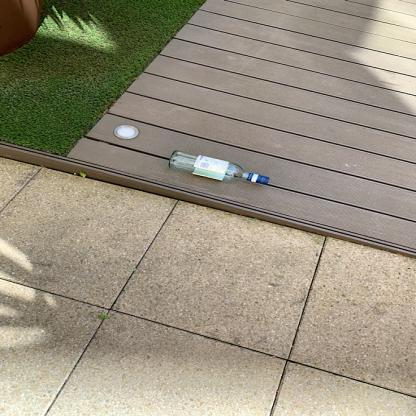trash: (164, 148, 273, 190)
